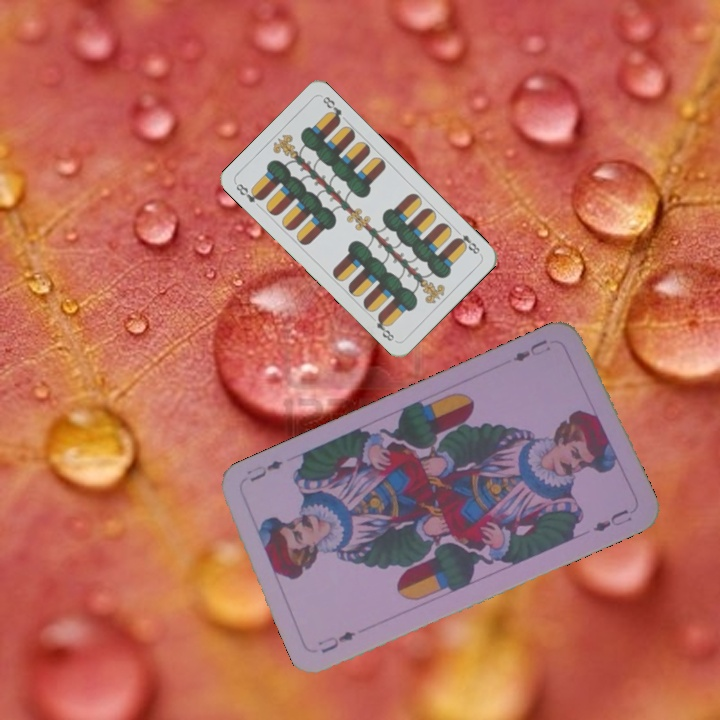E8: (451, 225, 483, 257), (232, 179, 266, 205)
EU: (314, 627, 358, 656), (508, 335, 550, 364)
